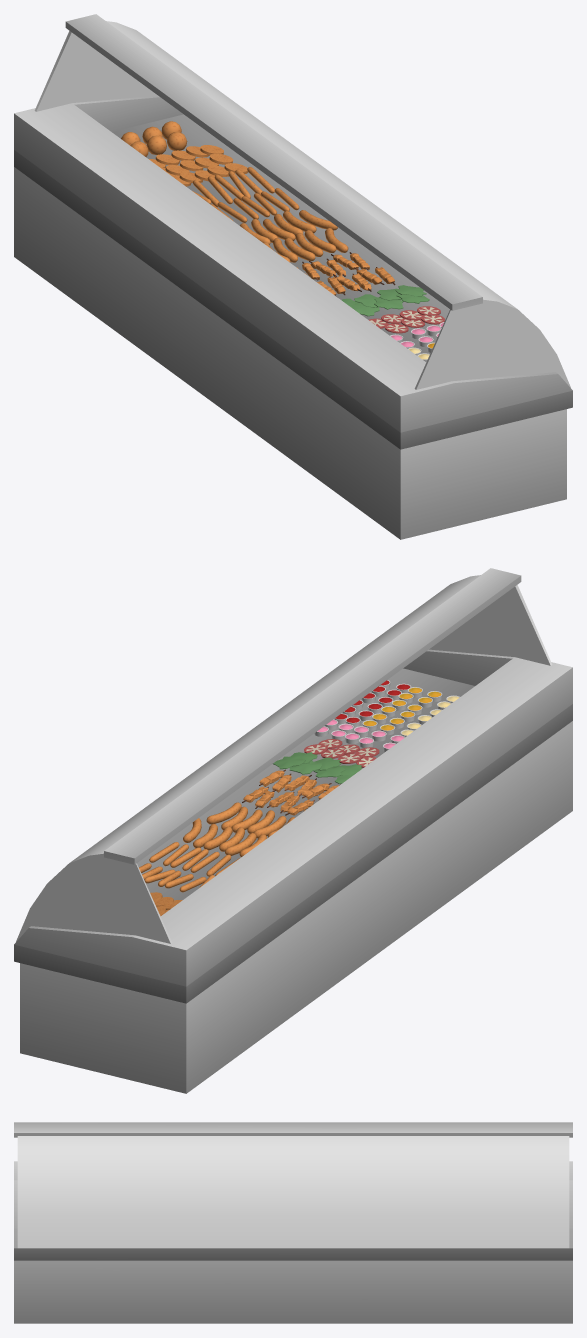
The model's file is DoubleCooked_Counter.fbx.
3 views of the same model, one above another, from view 1: azimuth 30°, elevation 25°; view 2: azimuth 150°, elevation 25°; view 3: azimuth 270°, elevation 25° (orthographic). The views are drawn at different scales.
Parts seen in each view (by area): view 1: DoubleCooked_Counter, DoubleCooked_Counter_Glass; view 2: DoubleCooked_Counter, DoubleCooked_Counter_Glass; view 3: DoubleCooked_Counter_Glass, DoubleCooked_Counter.
Boxes of the visible parts, bbox=[...] form: DoubleCooked_Counter: bbox=[14, 14, 572, 539]; DoubleCooked_Counter_Glass: bbox=[34, 21, 570, 389]; DoubleCooked_Counter: bbox=[14, 568, 572, 1093]; DoubleCooked_Counter_Glass: bbox=[16, 575, 552, 943]; DoubleCooked_Counter_Glass: bbox=[17, 1136, 569, 1248]; DoubleCooked_Counter: bbox=[14, 1122, 572, 1323].
Size of the model in its own units: 77.62 by 95.39 by 300.
Materials: 1 (1 with a texture image).
